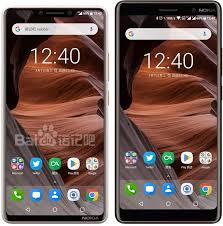nokia: (3, 5, 106, 223)
